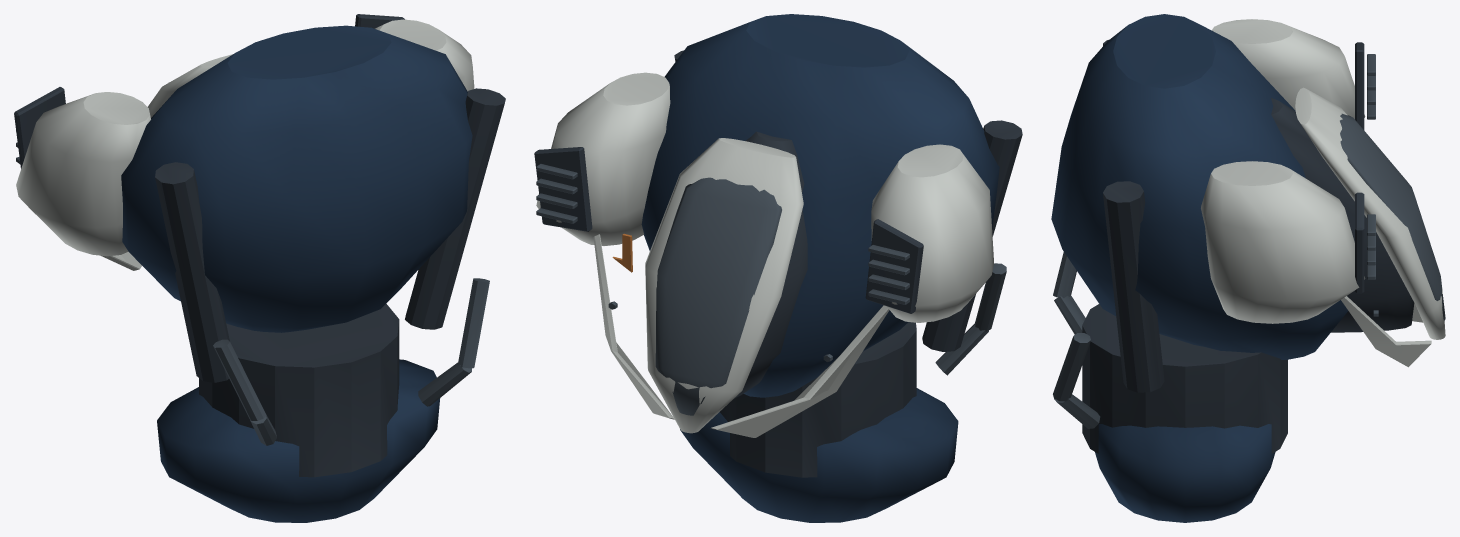
Rendered from torso.glb.
3 renders of one model, left to right at view 1: azimuth 30°, elevation 25°; view 2: azimuth 150°, elevation 25°; view 3: azimuth 270°, elevation 25°, orthographic.
Visible parts, largest first — view 1: Chest_fuselage, Waist_turntable, Pelvic_fuselage, Flank_intake_lip.001, Chest_frame_spar.001, Chest_frame_spar, Flank_intake_lip, Waist_flexible_line_01.001, Waist_flexible_line_01, Intake_recess.001, Waist_flexible_line_00.001, Canopy_seal; view 2: Chest_fuselage, Tinted_canopy, Pelvic_fuselage, Flank_intake_lip.001, Canopy_seal, Flank_intake_lip, Waist_turntable, Canopy_pressure_shell, White_chest_cheek.001, Chest_frame_spar.001, Intake_recess, Intake_recess.001 (+3 smaller); view 3: Chest_fuselage, Flank_intake_lip, Waist_turntable, Pelvic_fuselage, Chest_frame_spar, Flank_intake_lip.001, Canopy_seal, Canopy_pressure_shell, Tinted_canopy, White_chest_cheek, Waist_flexible_line_01.001, Intake_recess (+4 smaller).
Part boxes in pixels (box(x1,y1,x2,y2)): Chest_fuselage: box(121, 25, 472, 332); Waist_turntable: box(199, 303, 399, 477); Pelvic_fuselage: box(157, 359, 440, 522); Flank_intake_lip.001: box(16, 92, 150, 256); Chest_frame_spar.001: box(155, 162, 229, 382); Chest_frame_spar: box(405, 88, 505, 329); Flank_intake_lip: box(375, 19, 474, 91); Waist_flexible_line_01.001: box(457, 278, 489, 368); Waist_flexible_line_01: box(213, 339, 266, 420); Intake_recess.001: box(14, 87, 65, 168); Waist_flexible_line_00.001: box(418, 362, 471, 406); Canopy_seal: box(148, 54, 232, 117); Chest_fuselage: box(641, 14, 999, 397); Tinted_canopy: box(655, 177, 781, 415); Pelvic_fuselage: box(680, 388, 958, 522); Flank_intake_lip.001: box(871, 144, 993, 322); Canopy_seal: box(645, 138, 803, 433); Flank_intake_lip: box(536, 72, 670, 245); Waist_turntable: box(720, 322, 916, 477); Canopy_pressure_shell: box(734, 131, 807, 398); White_chest_cheek.001: box(711, 305, 889, 437); Chest_frame_spar.001: box(922, 120, 1022, 351); Intake_recess: box(534, 147, 592, 231); Intake_recess.001: box(865, 219, 923, 313); Chest_fuselage: box(1051, 14, 1348, 359); Flank_intake_lip: box(1201, 161, 1365, 323); Waist_turntable: box(1082, 304, 1287, 453); Pelvic_fuselage: box(1095, 424, 1275, 522); Chest_frame_spar: box(1103, 181, 1164, 392); Flank_intake_lip.001: box(1212, 19, 1365, 118); Canopy_seal: box(1295, 87, 1445, 339); Canopy_pressure_shell: box(1271, 98, 1414, 332); Tinted_canopy: box(1340, 113, 1445, 320); White_chest_cheek: box(1341, 296, 1431, 367); Waist_flexible_line_01.001: box(1053, 333, 1090, 401); Intake_recess: box(1355, 192, 1364, 293).
Bounding box in the file's own units: 0.42 × 0.4136 × 0.337.
